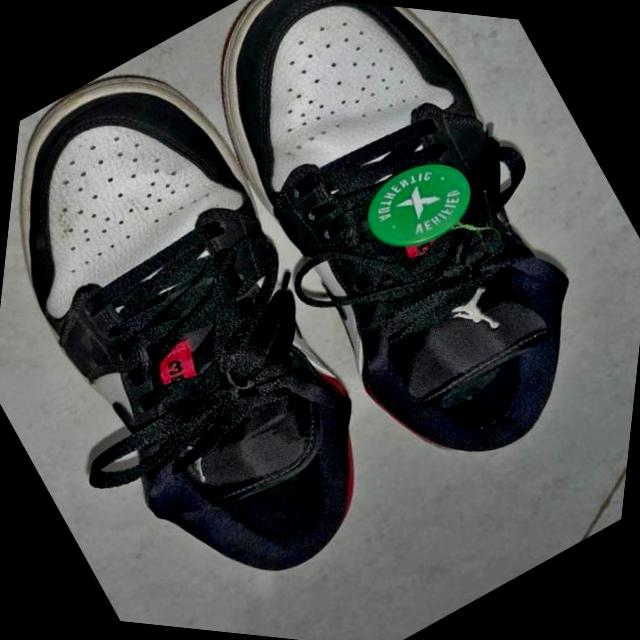nike_original_jordan: (0, 14, 482, 640), (114, 0, 640, 518)
